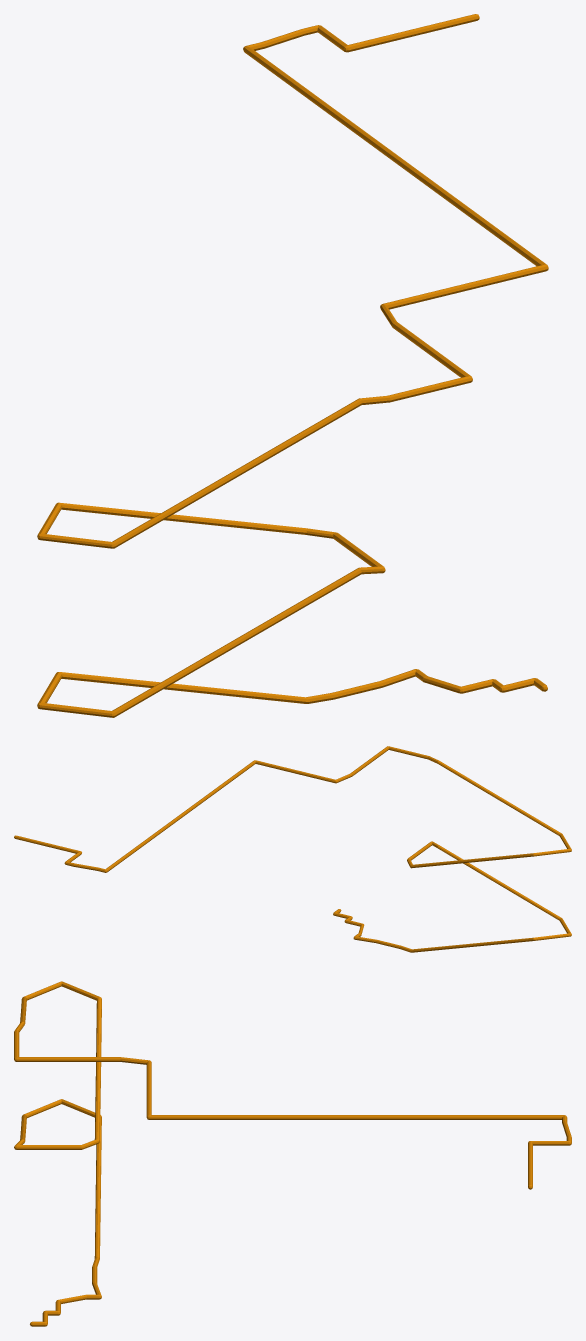
3 renders of one model, top to bottom at view 1: azimuth 30°, elevation 25°; view 2: azimuth 150°, elevation 25°; view 3: azimuth 270°, elevation 25°, orthographic. The views are drawn at different scales.
Size of the model in its own units: 2409 by 1020 by 2149.
